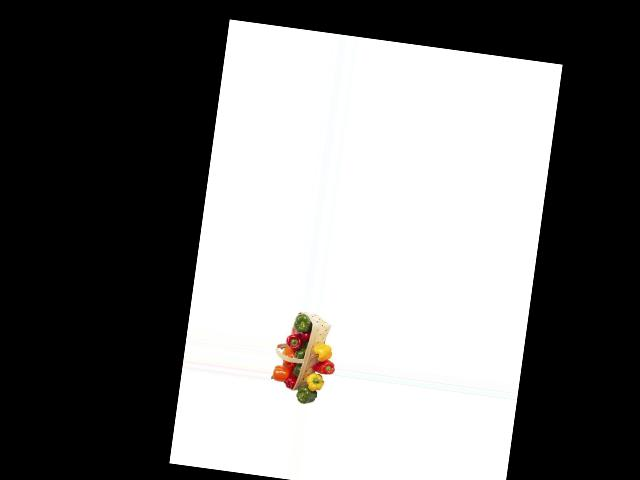bell_pepper: (292, 313, 311, 335)
